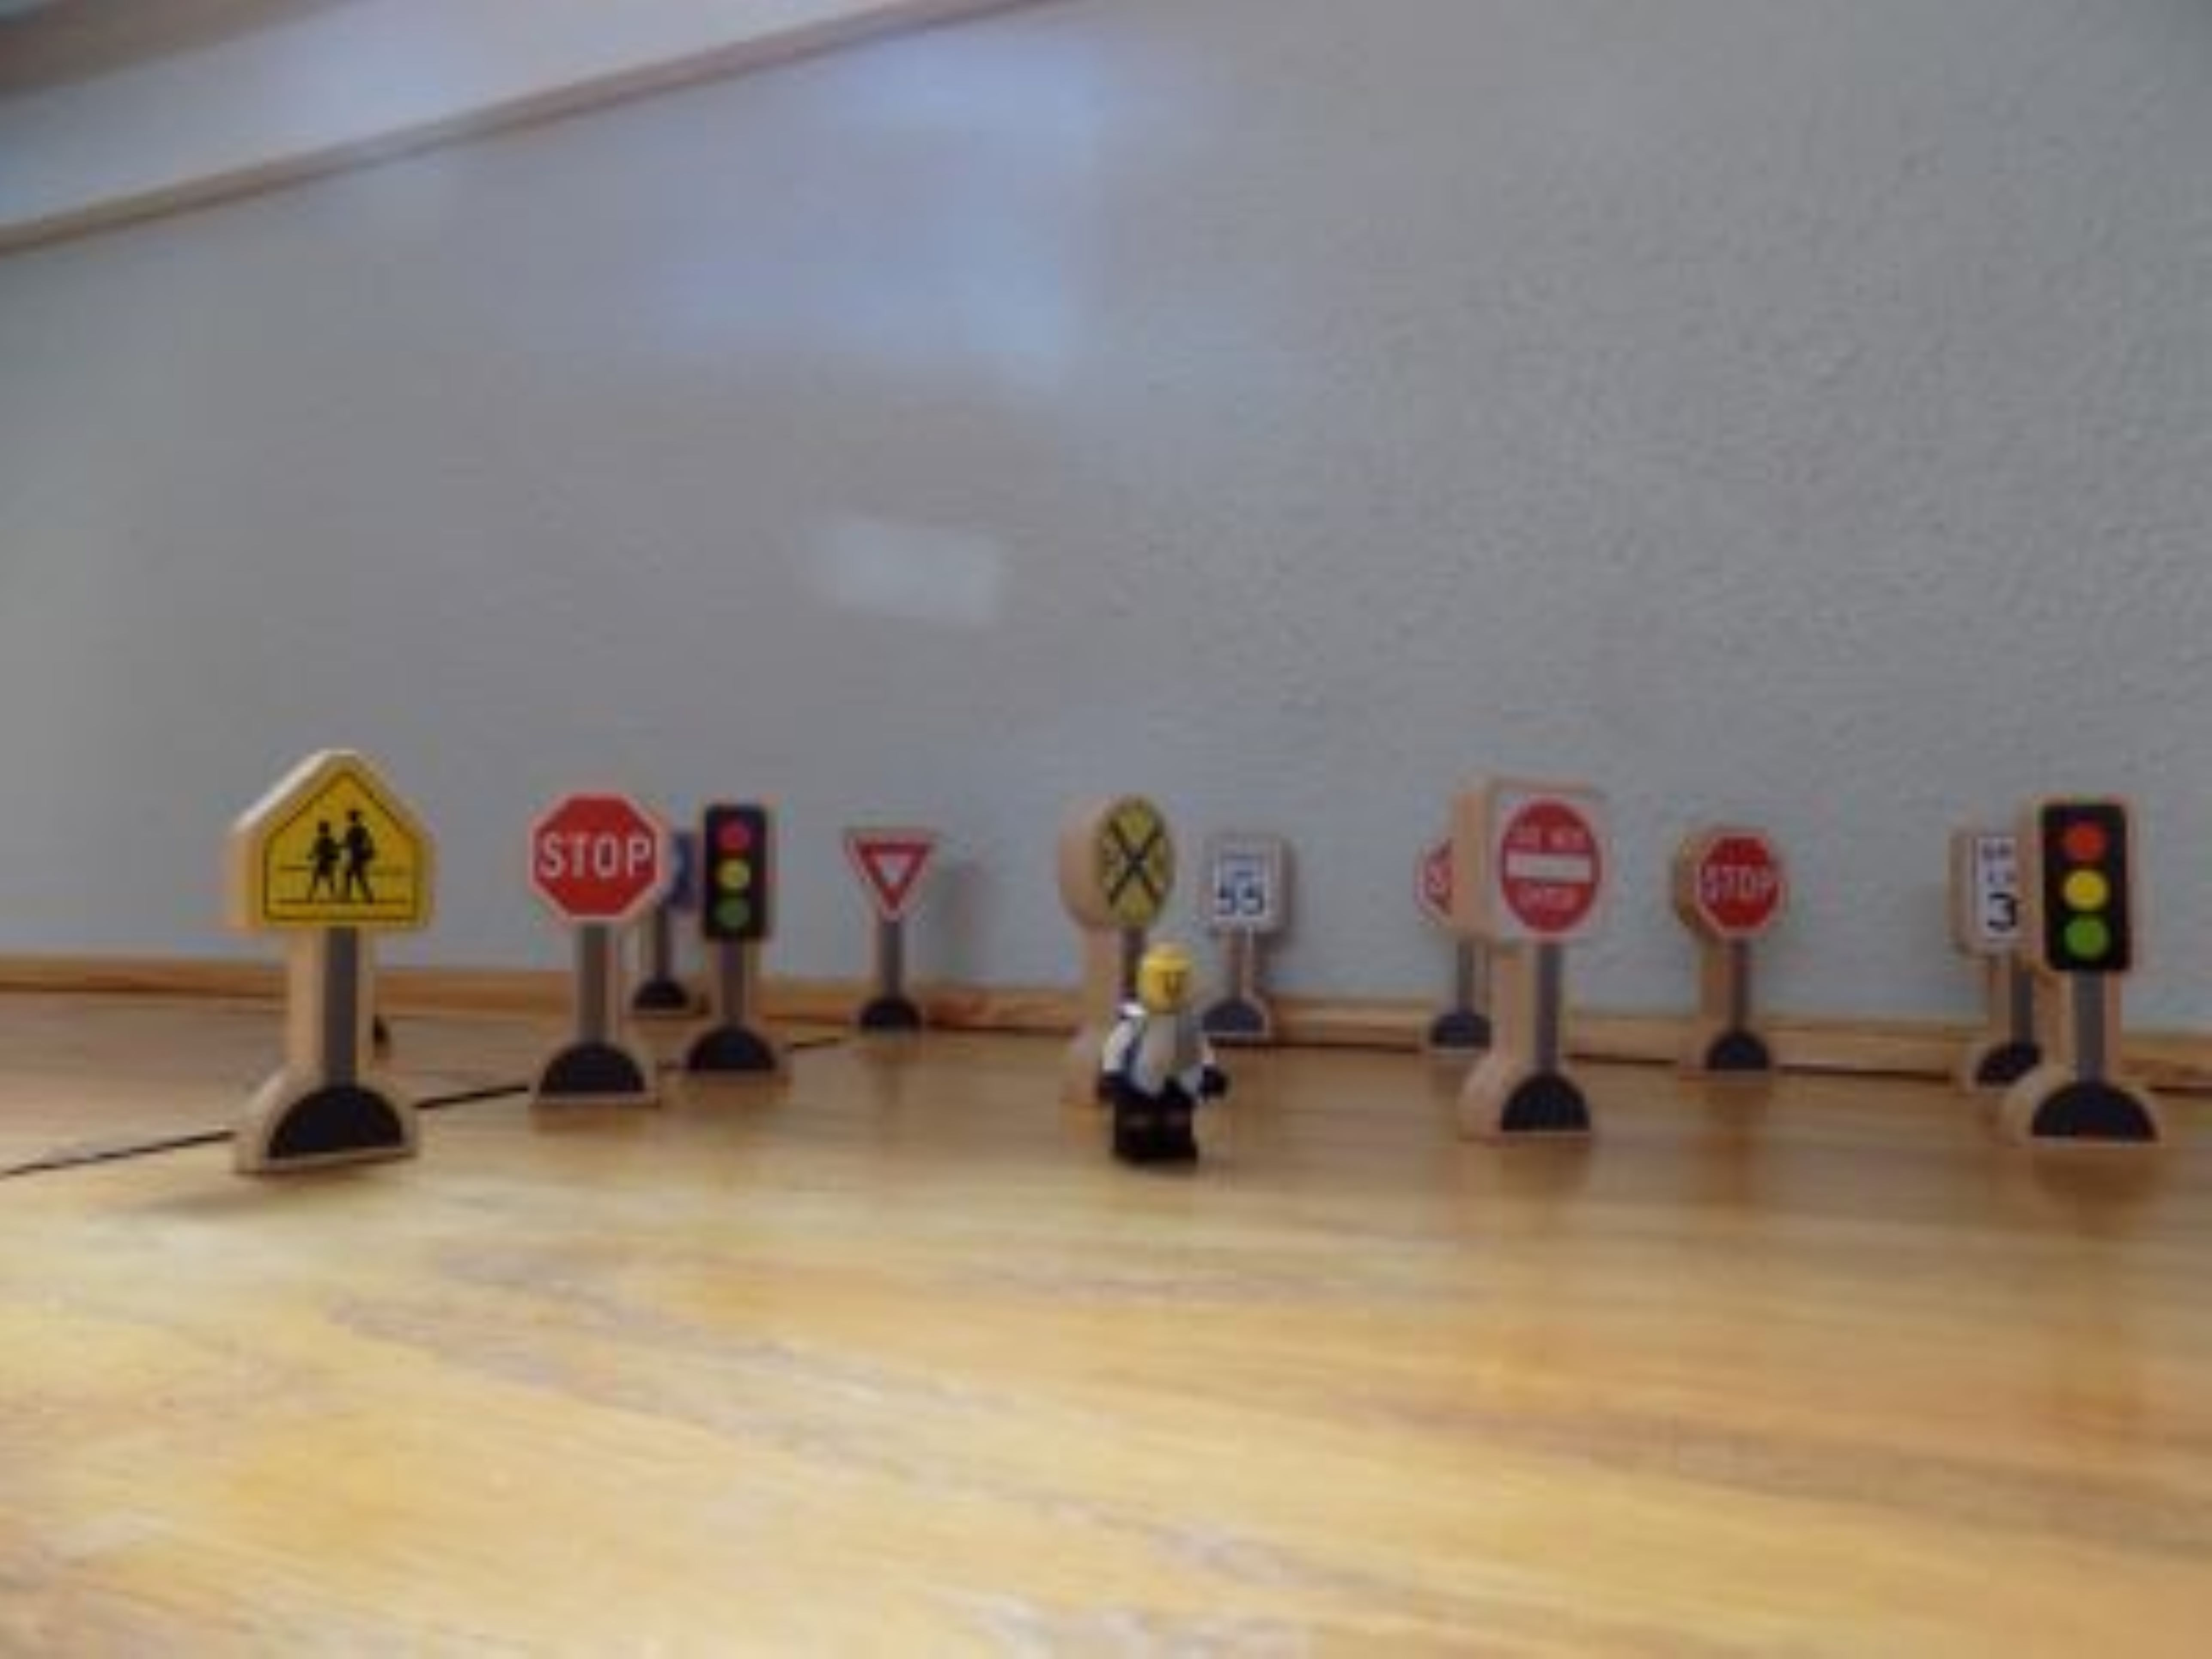Do Not Enter: (1471, 769, 1620, 965)
Pedestrians: (238, 747, 435, 933)
Person: (1102, 950, 1239, 1175)
Rail Road Sign: (1064, 793, 1177, 939)
Red Traffic Light: (2033, 805, 2141, 993), (700, 805, 779, 960)
Speed Limit 55: (1208, 836, 1279, 943)
Stop Sign: (526, 783, 678, 950), (1674, 823, 1794, 945)
Yield Sign: (842, 831, 957, 936)
